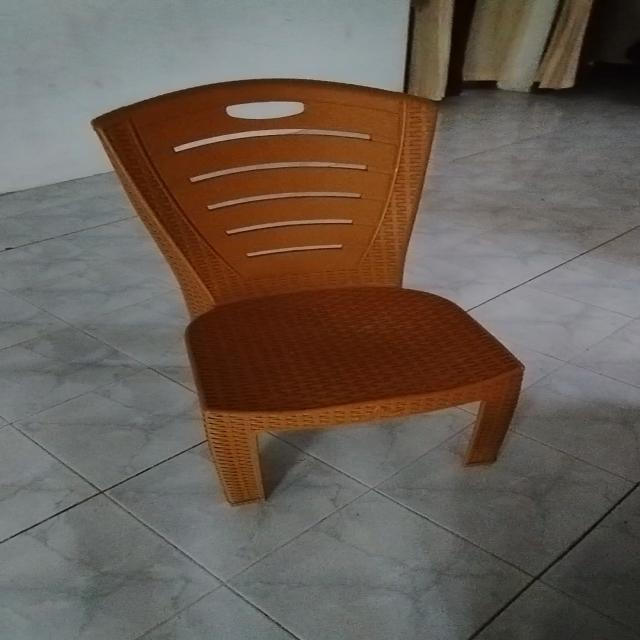chair: (67, 60, 575, 529)
